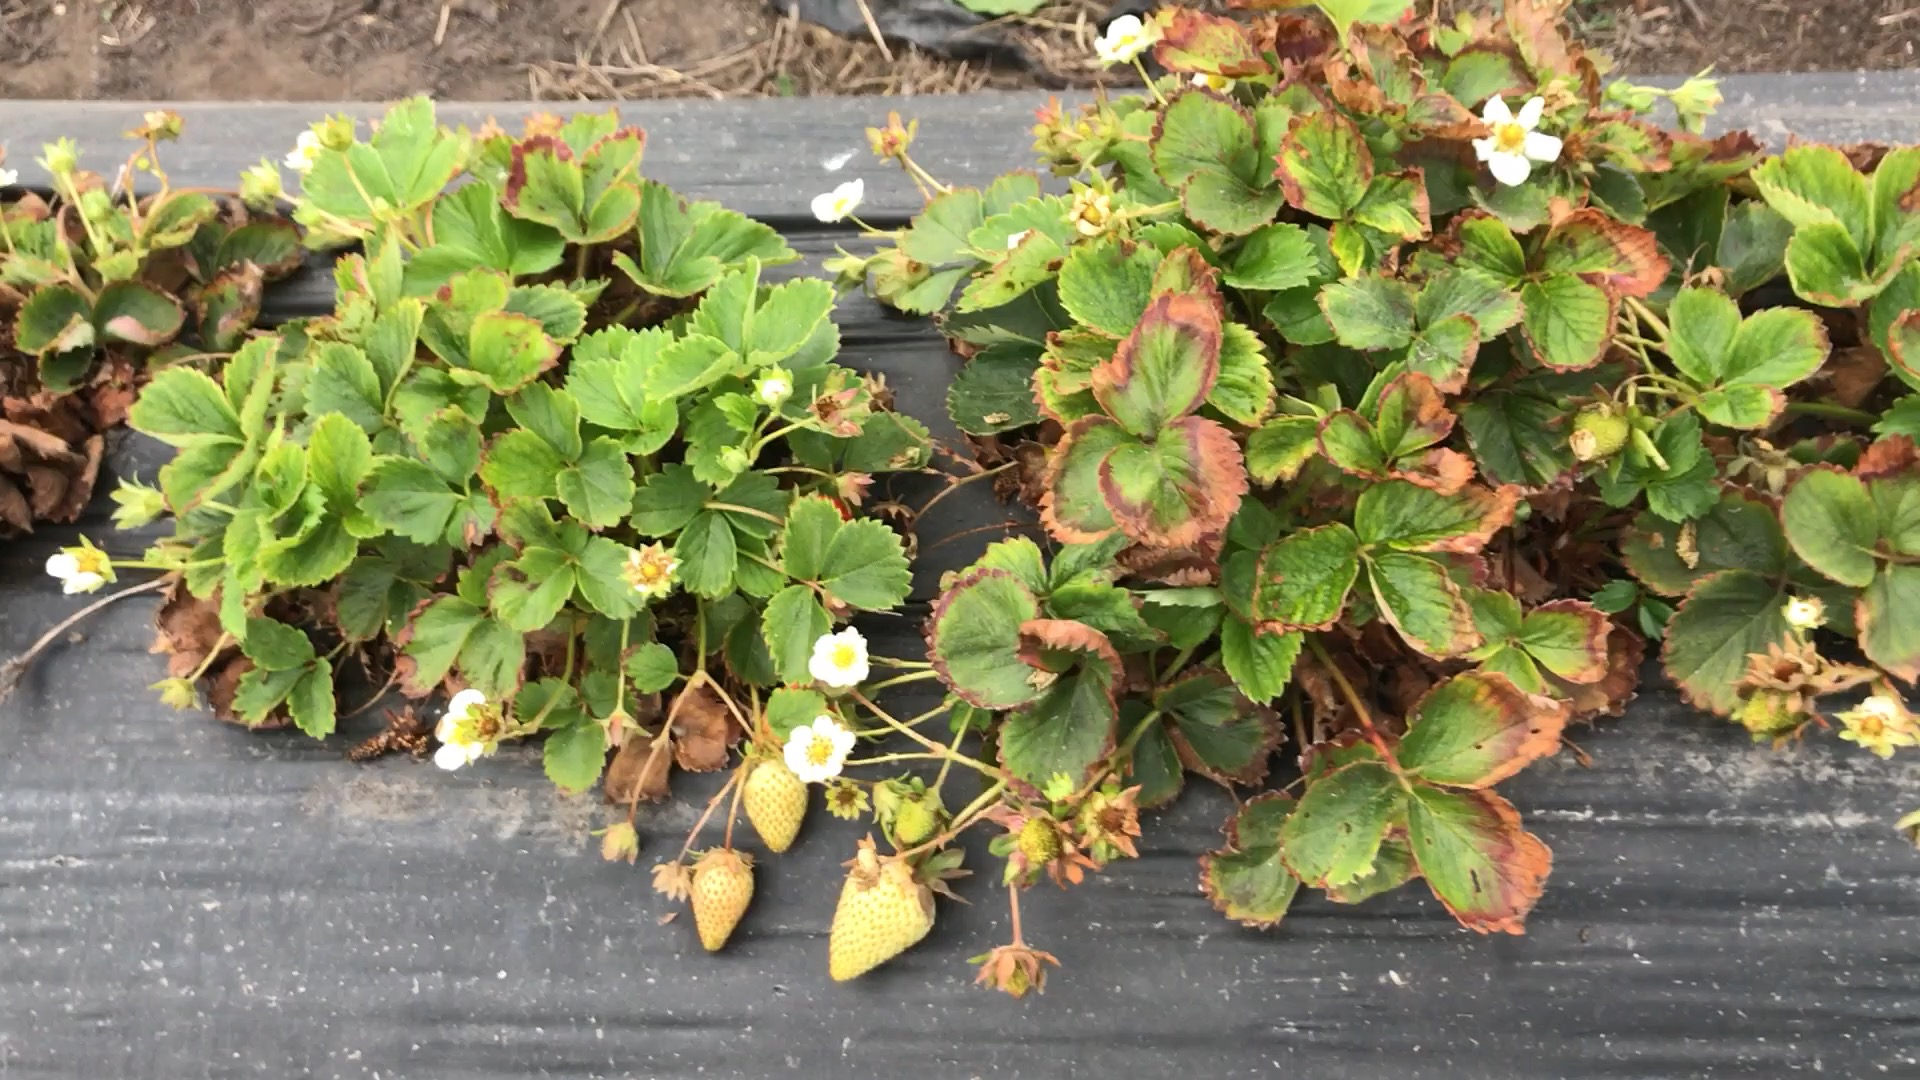unripe_strawberry: (822, 853, 938, 984), (736, 753, 816, 858), (688, 841, 760, 956), (1569, 396, 1635, 468), (1735, 682, 1808, 738), (893, 785, 945, 851), (1015, 818, 1065, 866)
